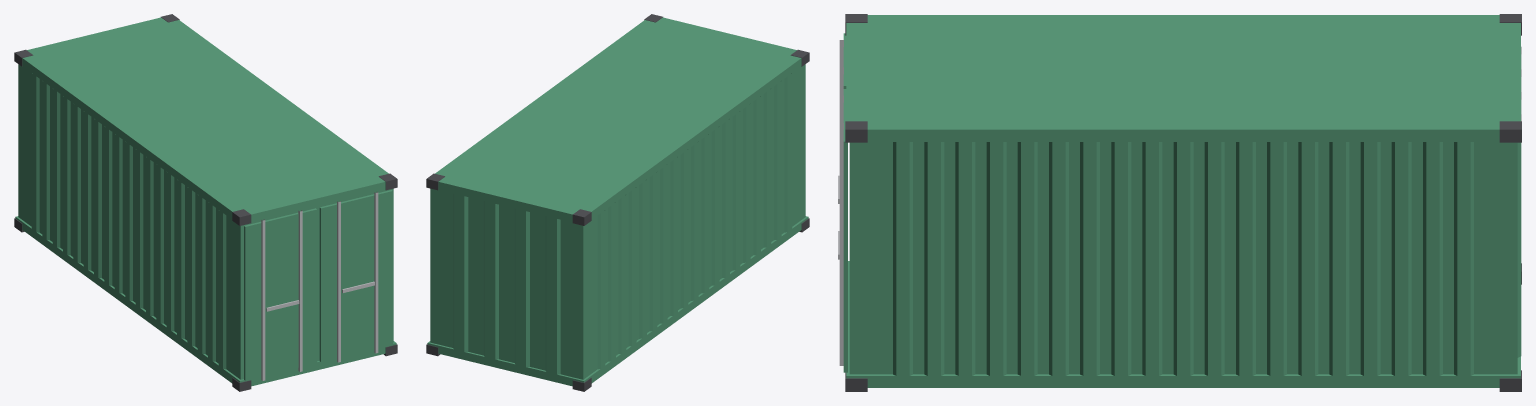
The model's file is SM_Prop_ContainerGreen.fbx.
3 renders of one model, left to right at view 1: azimuth 30°, elevation 25°; view 2: azimuth 150°, elevation 25°; view 3: azimuth 270°, elevation 25°, orthographic. The views are drawn at different scales.
Parts seen in each view (by area): view 1: SM_Prop_ContainerGreen; view 2: SM_Prop_ContainerGreen; view 3: SM_Prop_ContainerGreen.
Boxes of the visible parts, bbox=[...] form: SM_Prop_ContainerGreen: bbox=[14, 14, 397, 391]; SM_Prop_ContainerGreen: bbox=[426, 14, 809, 391]; SM_Prop_ContainerGreen: bbox=[838, 14, 1521, 391].
Size of the model in its own units: 6.14 by 2.46 by 2.6.
